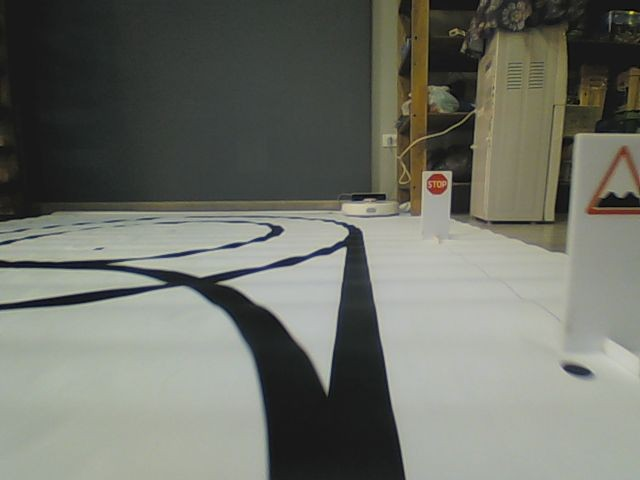Nerov: (585, 148, 640, 218)
Stop: (426, 173, 448, 195)
